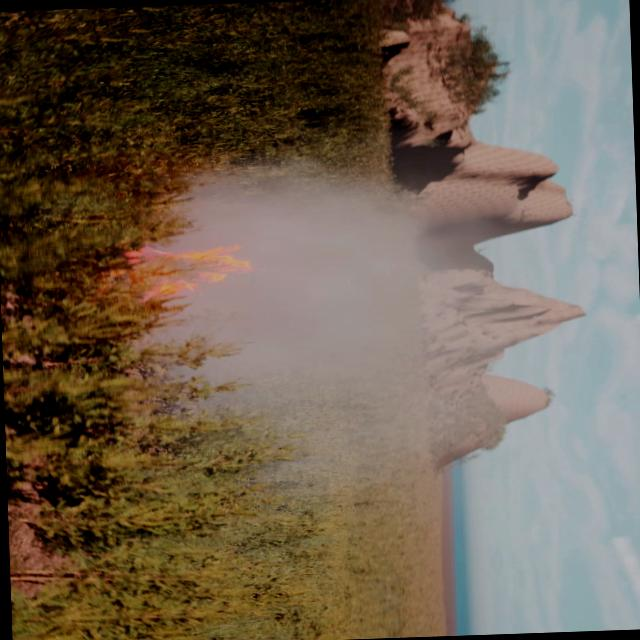fire: (104, 238, 264, 308)
smoke: (134, 151, 506, 515)
